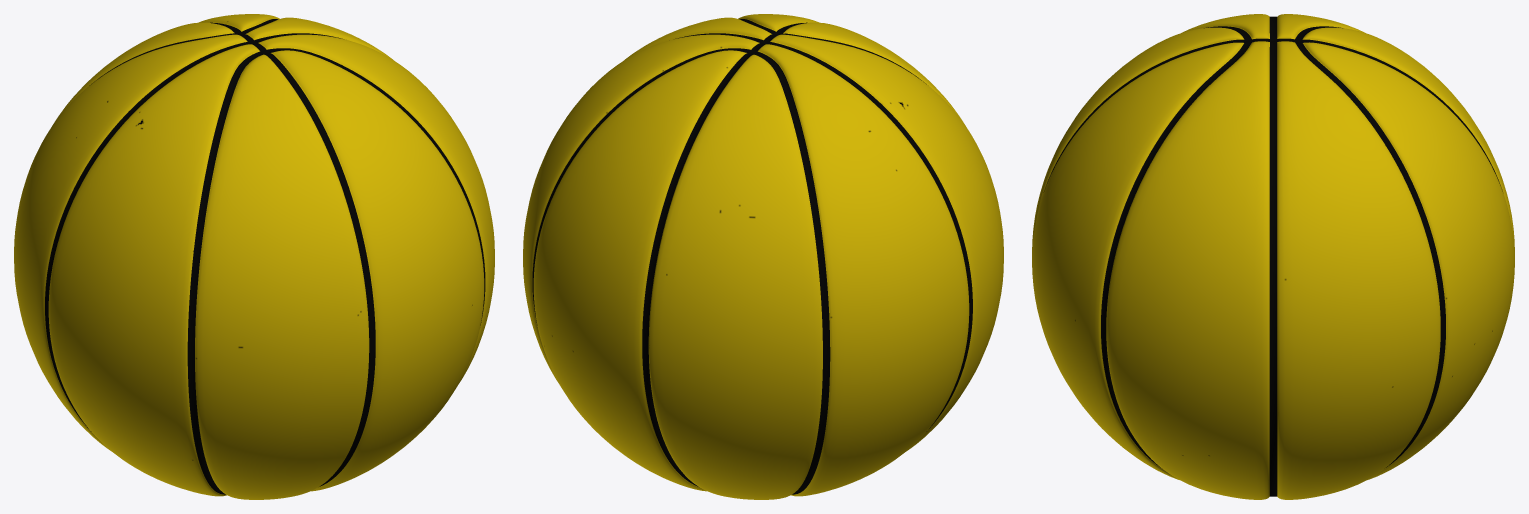
Rendered from item5.fbx.
3 renders of one model, left to right at view 1: azimuth 30°, elevation 25°; view 2: azimuth 150°, elevation 25°; view 3: azimuth 270°, elevation 25°, orthographic.
Parts seen in each view (by area): view 1: Item0.010; view 2: Item0.010; view 3: Item0.010.
Boxes of the visible parts, x1,y1,x2,y2 form: Item0.010: (14, 14, 494, 499); Item0.010: (523, 14, 1003, 499); Item0.010: (1032, 14, 1514, 499).
Size of the model in its own units: 193 by 194 by 193.
Materials: 1 (1 with a texture image).
